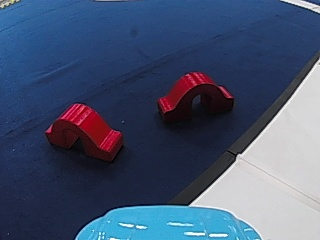bridge: (46, 101, 125, 161), (157, 71, 236, 123)
